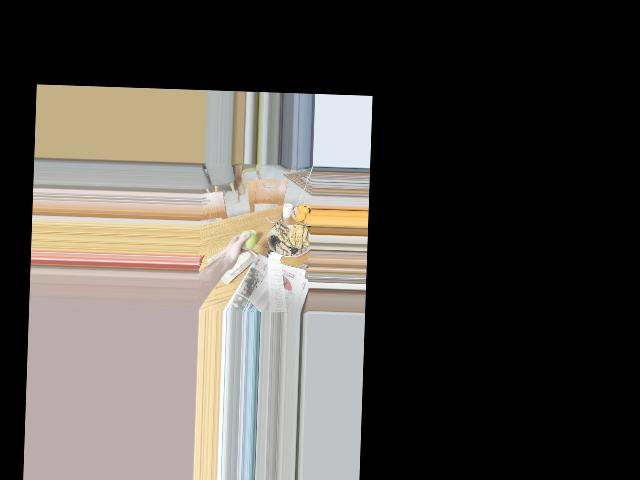apple: (235, 229, 255, 252)
